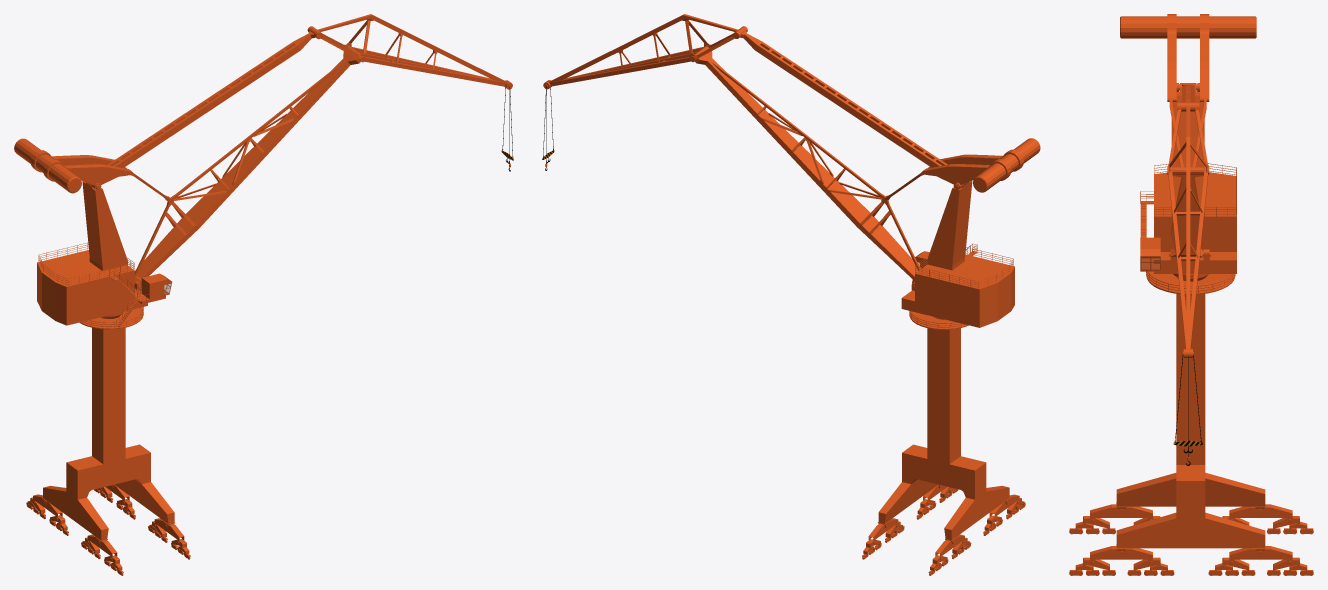
The model's file is okpo_oc.glb.
The picture shows the model from 3 angles, left to right: view 1: azimuth 30°, elevation 25°; view 2: azimuth 150°, elevation 25°; view 3: azimuth 270°, elevation 25°; orthographic projection. The views are drawn at different scales.
Parts seen in each view (by area): view 1: Bottom, Top, Link_Lower.001, Link_Upper.003, Link_Upper.002, Link_Upper.001; view 2: Bottom, Top, Link_Lower.001, Link_Upper.003, Link_Upper.001, Link_Upper.002; view 3: Bottom, Top, Link_Upper.001, Link_Upper.003, Link_Lower.001, Link_End, Connector, Link_Upper.002.
Part boxes in pixels (box(x1,y1,x2,y2)): Bottom: box(26, 307, 190, 575); Top: box(37, 181, 172, 327); Link_Lower.001: box(134, 46, 360, 287); Link_Upper.003: box(307, 14, 512, 89); Link_Upper.002: box(86, 27, 318, 185); Link_Upper.001: box(14, 138, 132, 193); Bottom: box(862, 311, 1025, 575); Top: box(901, 180, 1014, 327); Link_Lower.001: box(695, 46, 920, 283); Link_Upper.003: box(543, 14, 747, 89); Link_Upper.001: box(922, 138, 1040, 192); Link_Upper.002: box(737, 27, 968, 185); Bottom: box(1069, 271, 1313, 575); Top: box(1140, 83, 1236, 281); Link_Upper.001: box(1120, 14, 1256, 101); Link_Upper.003: box(1167, 102, 1209, 358); Link_Lower.001: box(1170, 167, 1204, 257); Link_End: box(1173, 355, 1202, 465); Connector: box(1169, 96, 1206, 167); Link_Upper.002: box(1182, 83, 1194, 111).
Bounding box in the file's own units: 84.94 × 78.31 × 29.88.
Materials: 4 (3 with a texture image).
